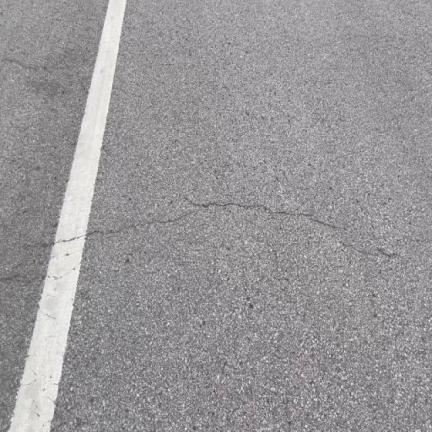Road: (52, 0, 431, 431)
